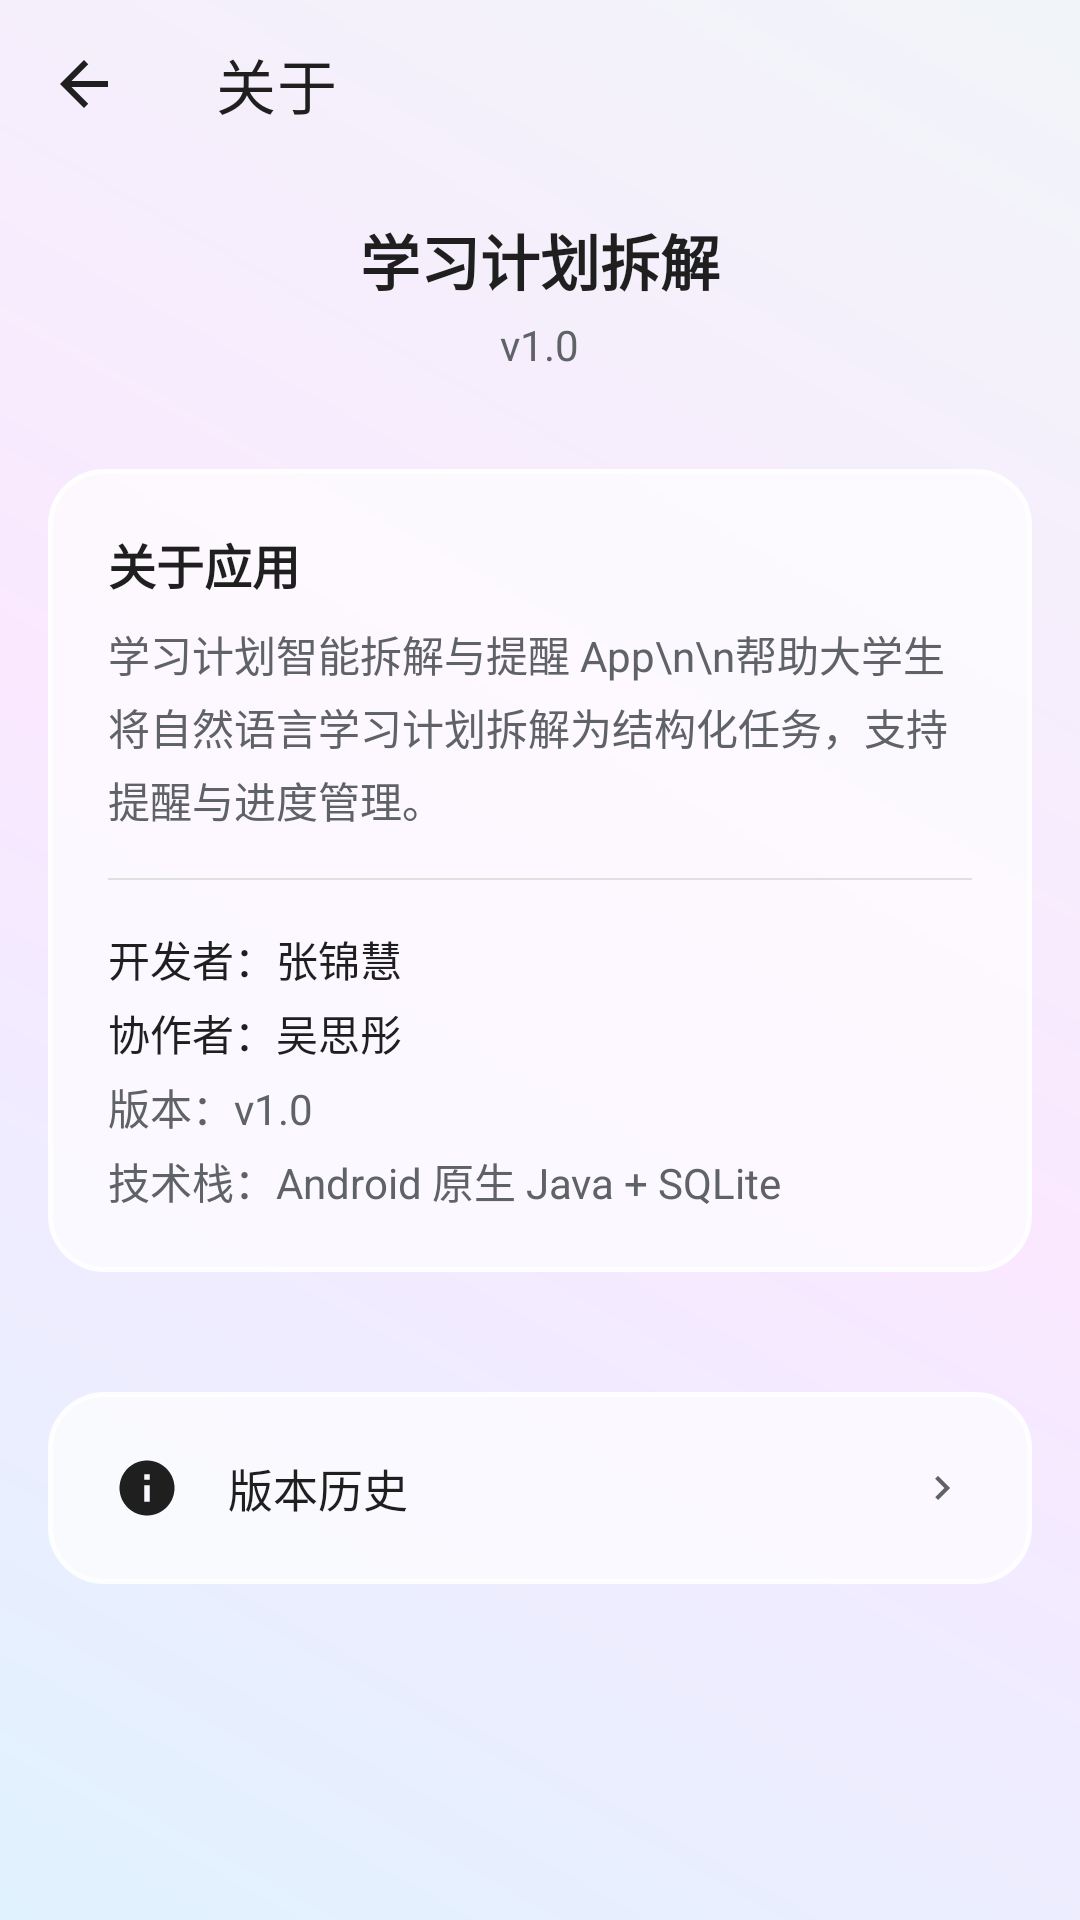

Named icons in this screenshot (1080×1920) and their bounding boxes, detection(x1, y1, x2, y2):
about: detection(119, 1460, 175, 1516)
arrow right: detection(935, 1476, 950, 1500)
